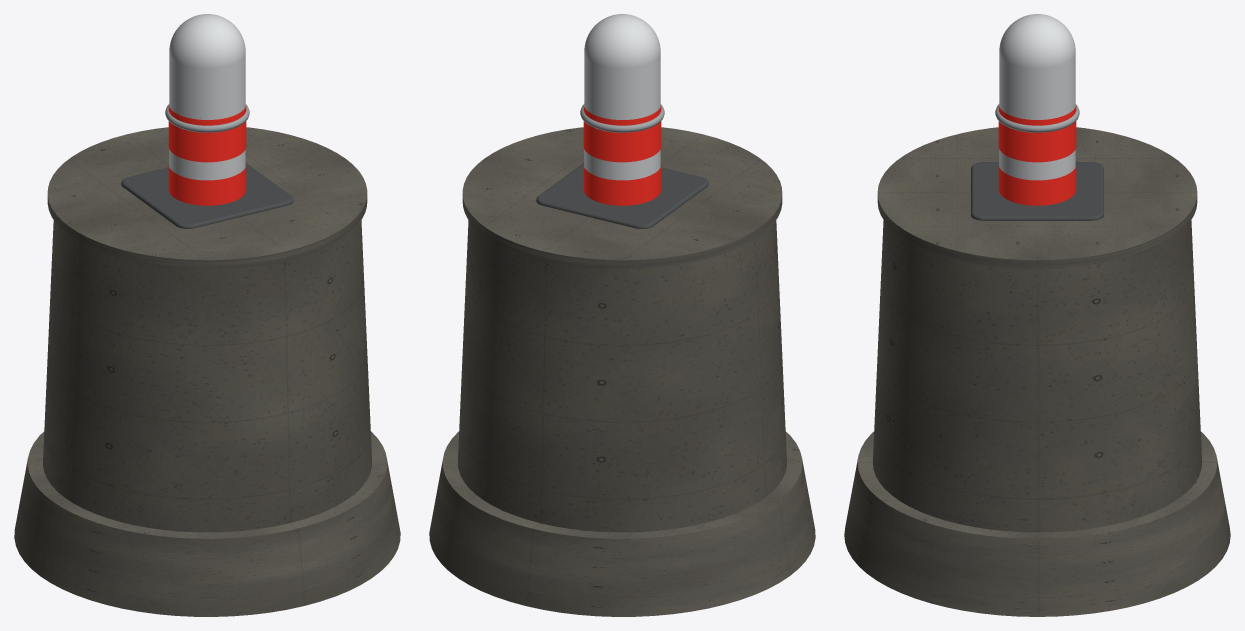
3 views of the same model, side by side, from view 1: azimuth 30°, elevation 25°; view 2: azimuth 150°, elevation 25°; view 3: azimuth 270°, elevation 25° (orthographic).
Parts seen in each view (by area): view 1: opt_type_stone, opt_type_steel, opt_band_on; view 2: opt_type_stone, opt_type_steel, opt_band_on; view 3: opt_type_stone, opt_type_steel, opt_band_on.
Part boxes in pixels (box(x1,y1,x2,y2)): opt_type_stone: box(14, 127, 400, 616); opt_type_steel: box(165, 14, 249, 180); opt_band_on: box(168, 106, 246, 205); opt_type_stone: box(429, 127, 815, 616); opt_type_steel: box(580, 14, 664, 180); opt_band_on: box(583, 106, 661, 205); opt_type_stone: box(844, 127, 1230, 616); opt_type_steel: box(995, 14, 1079, 180); opt_band_on: box(998, 106, 1076, 205).
Size of the model in its own units: 0.58 by 0.8575 by 0.58.
Materials: 5 (1 with a texture image).
